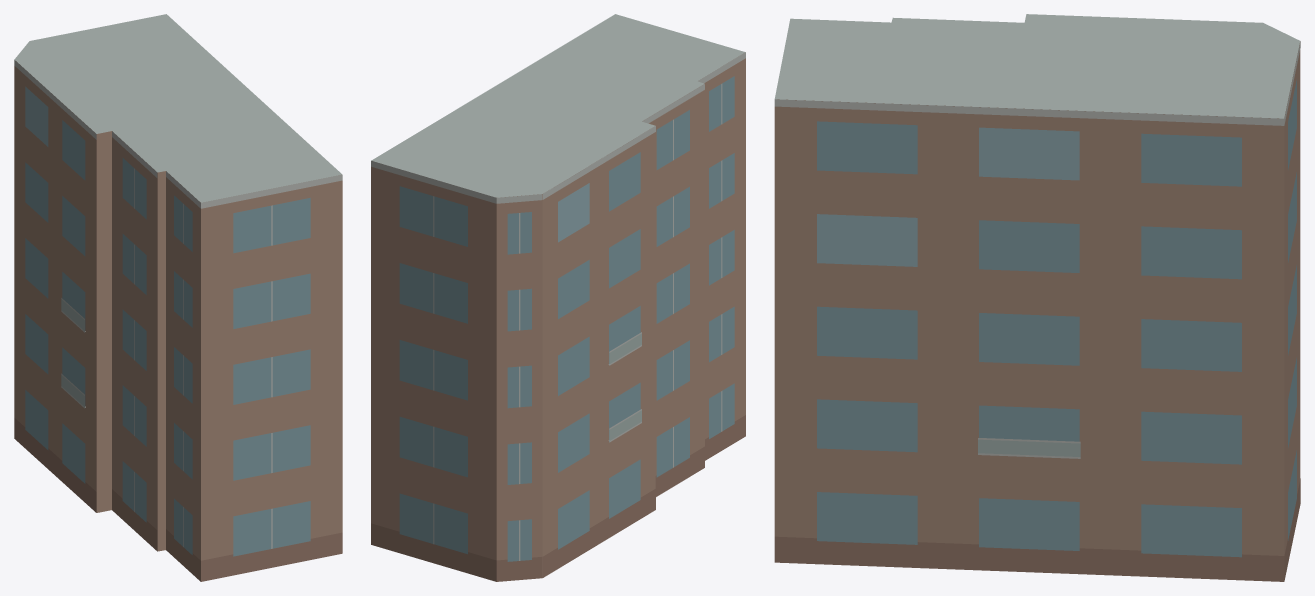
Rendered from survey-upis-32691181.glb.
The picture shows the model from 3 angles, left to right: view 1: azimuth 30°, elevation 25°; view 2: azimuth 150°, elevation 25°; view 3: azimuth 270°, elevation 25°; orthographic projection. The views are drawn at different scales.
Parts seen in each view (by area): view 1: survey-upis-32691181.tmp; view 2: survey-upis-32691181.tmp; view 3: survey-upis-32691181.tmp.
Boxes of the visible parts, left/top/right/bottom form: survey-upis-32691181.tmp: left=14, top=14, right=342, bottom=581; survey-upis-32691181.tmp: left=371, top=14, right=745, bottom=581; survey-upis-32691181.tmp: left=774, top=14, right=1300, bottom=581.
Bounding box in the file's own units: 7.52 × 15.5 × 15.95.
